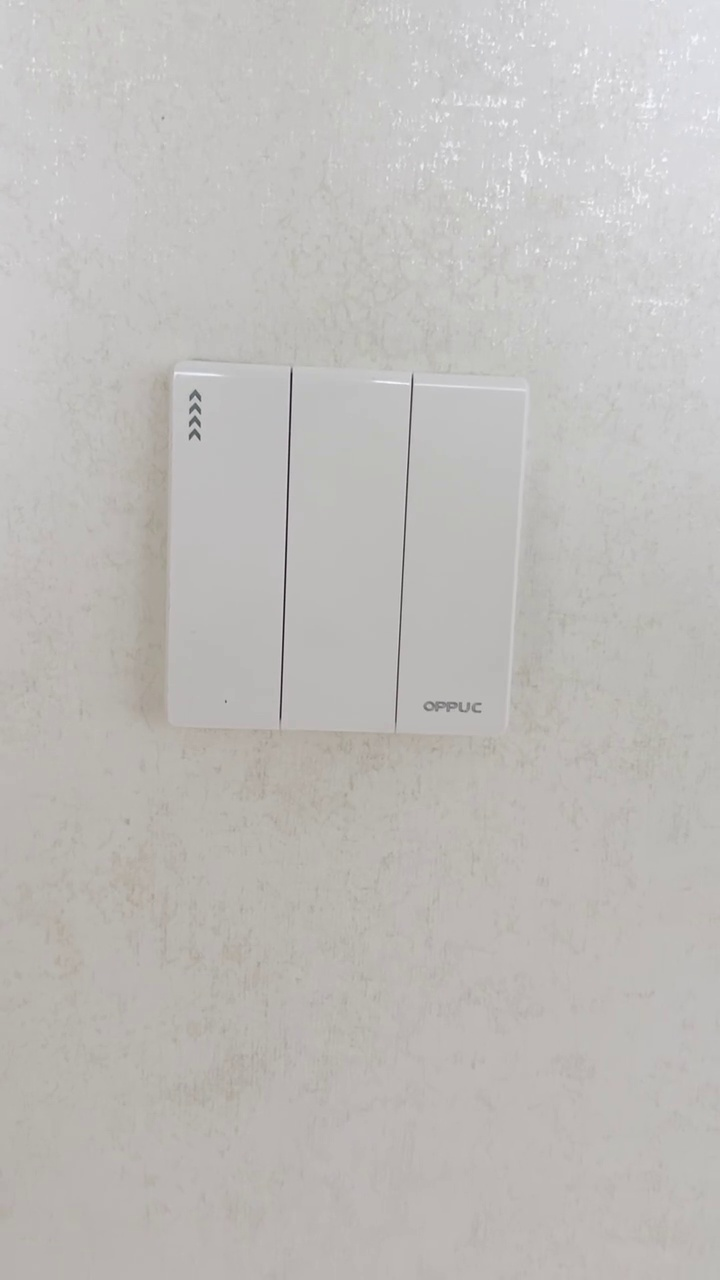button1: (402, 382, 519, 734), (287, 379, 403, 733), (173, 369, 287, 729)
